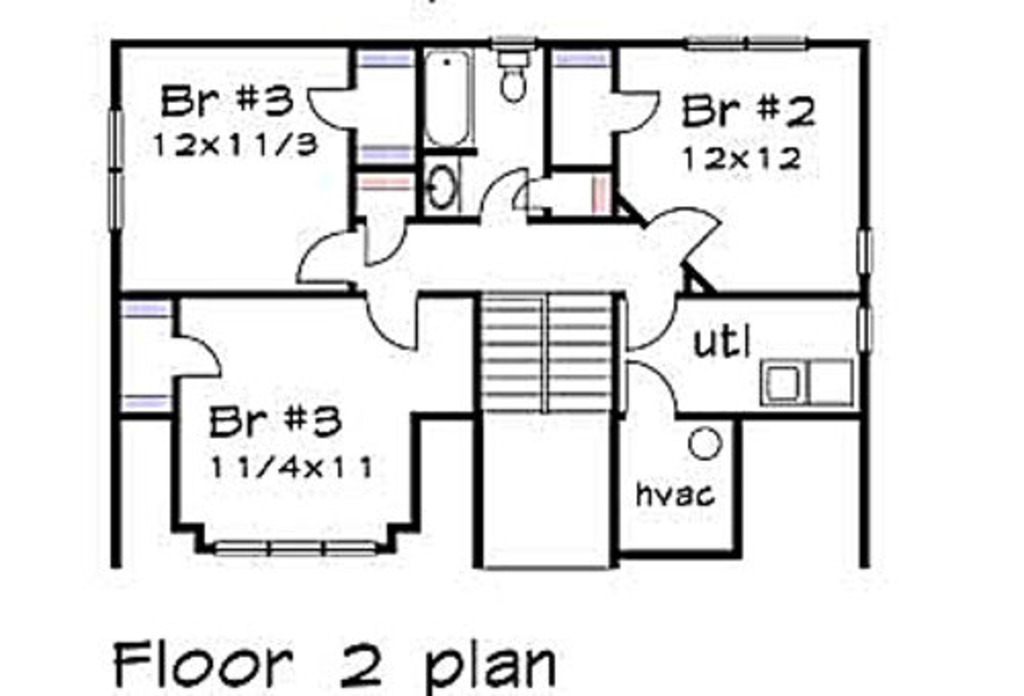door: (643, 190, 730, 261), (288, 226, 361, 286), (617, 292, 685, 353), (159, 325, 225, 382), (477, 164, 535, 224), (621, 364, 683, 417), (601, 83, 660, 138), (362, 293, 416, 348), (300, 82, 355, 133), (364, 220, 404, 271), (511, 168, 555, 214)
large_sink: (484, 40, 539, 106)
small_sink: (421, 155, 462, 213)
stairs: (481, 286, 618, 419)
tub: (418, 47, 474, 147)
window: (214, 536, 377, 558), (746, 31, 806, 55), (686, 34, 746, 54), (107, 173, 123, 228), (857, 223, 874, 273), (109, 110, 122, 172), (854, 305, 868, 351)
